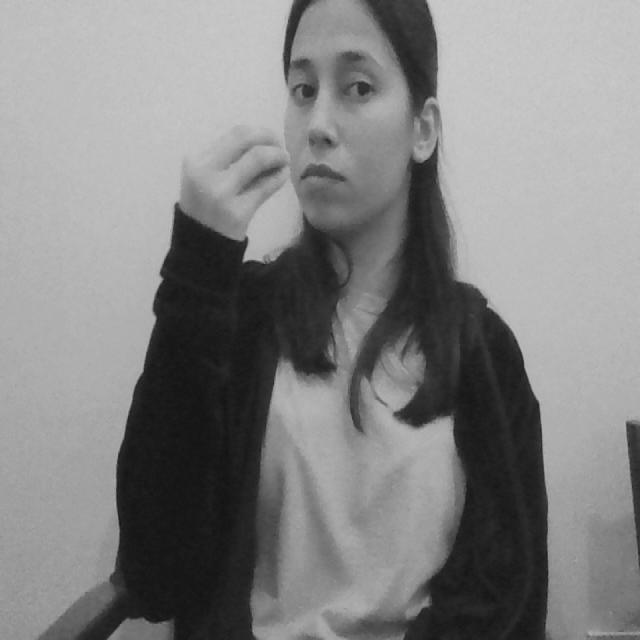Yemek: (179, 122, 344, 200)
